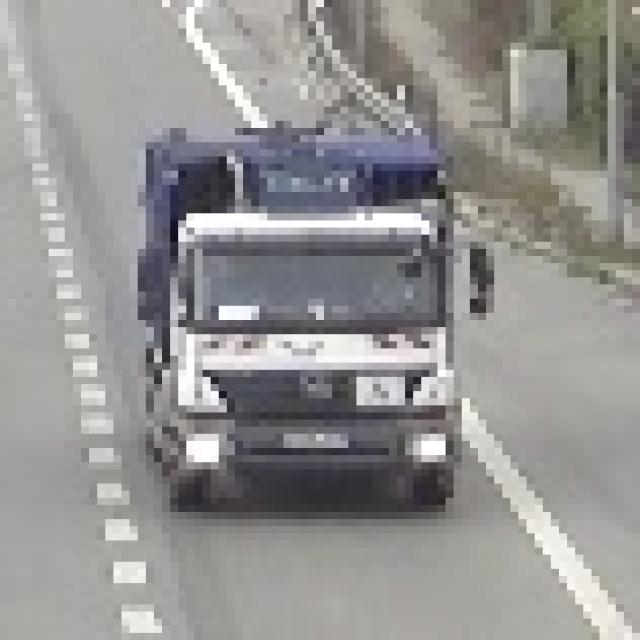truck: (131, 115, 487, 506)
